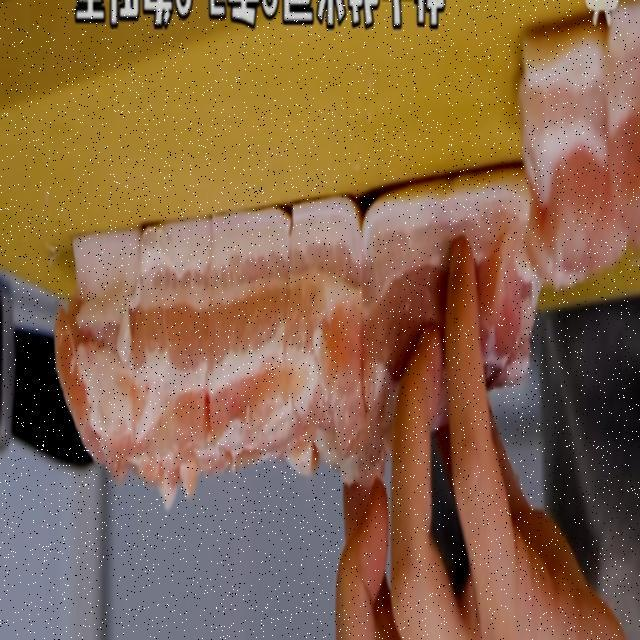pork: (39, 147, 528, 507), (523, 23, 640, 309)
